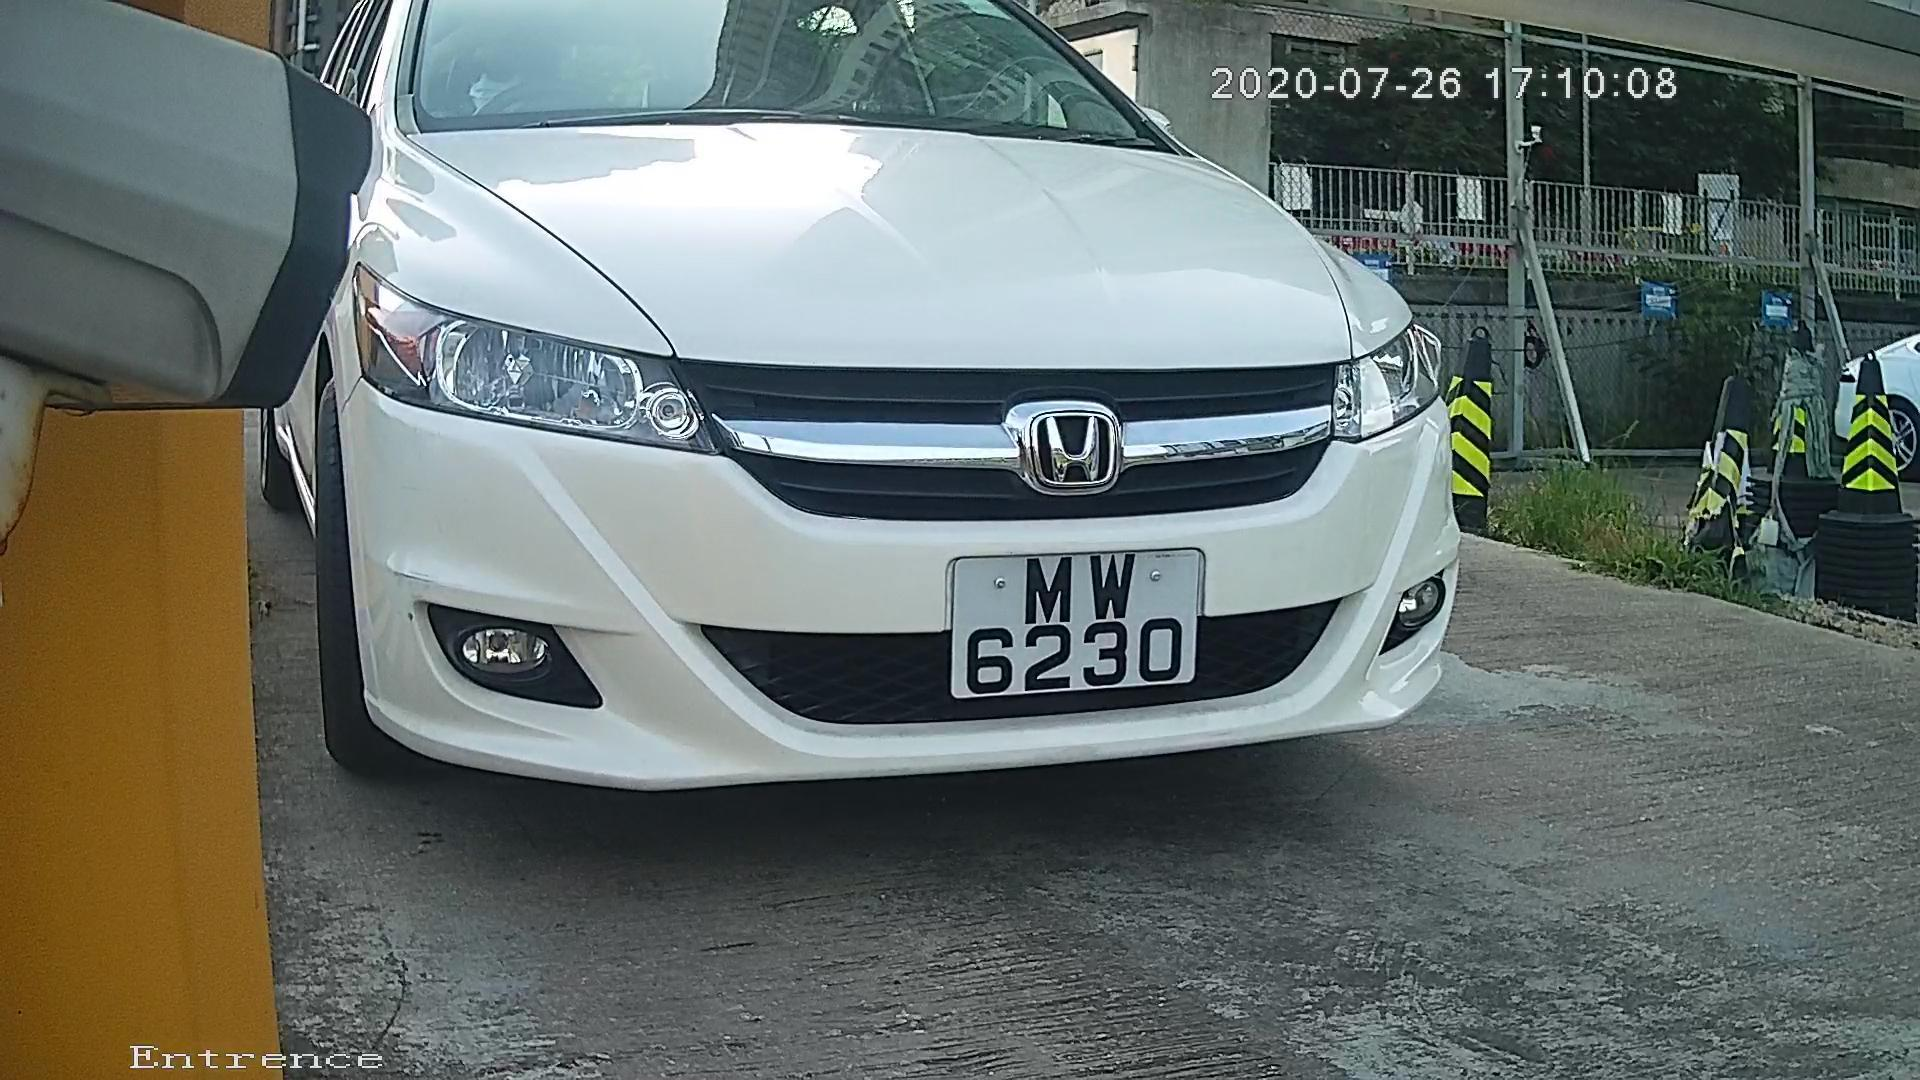privatecar: (249, 5, 1543, 839)
